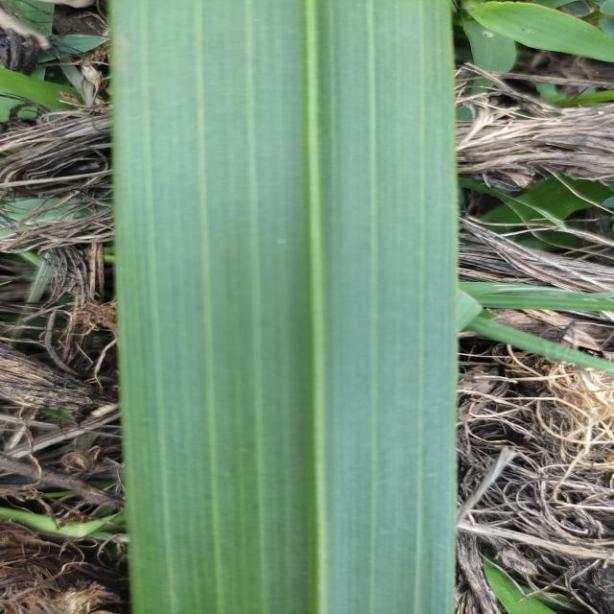Healthy: (110, 0, 459, 614)
